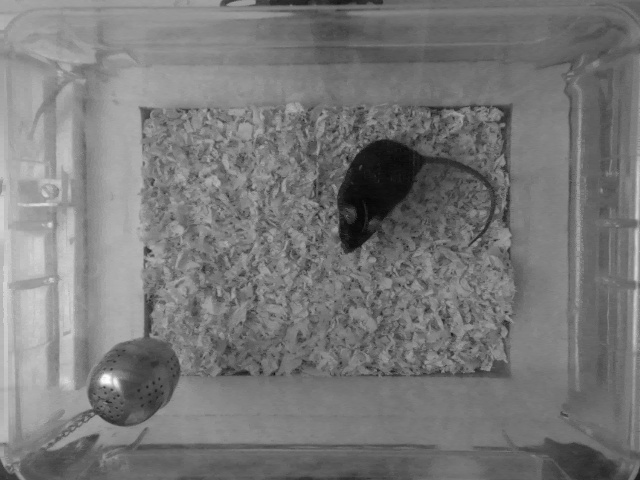mice: (331, 137, 497, 260)
